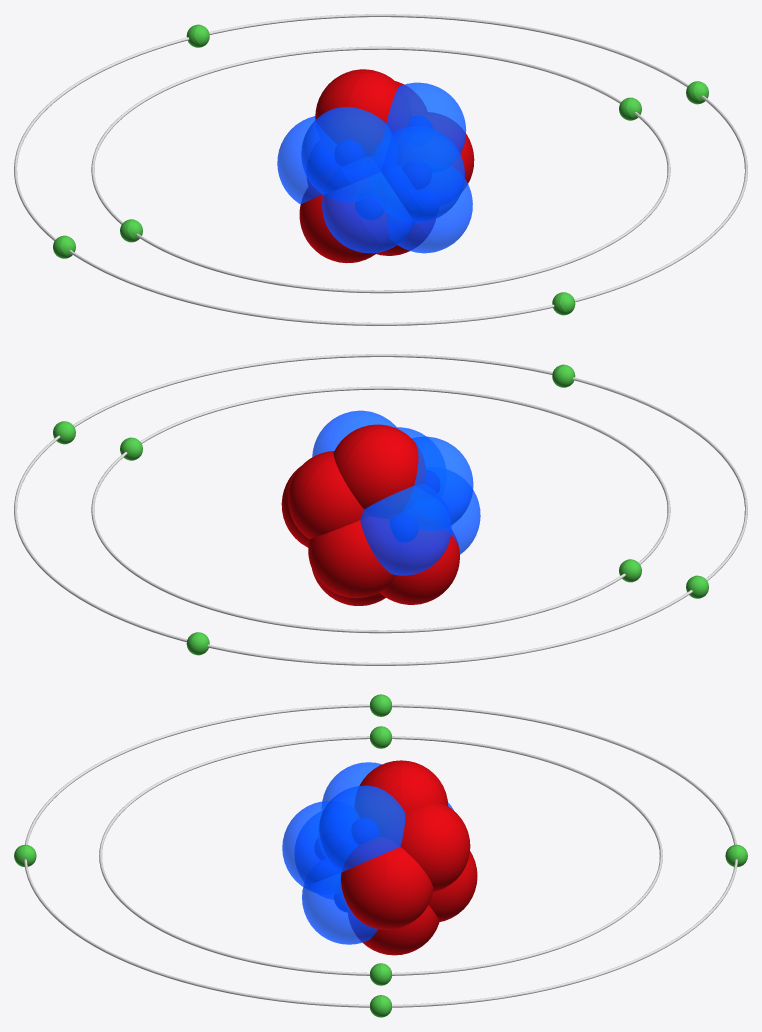
File: element_006_carbon.glb
3 renders of one model, top to bottom at view 1: azimuth 30°, elevation 25°; view 2: azimuth 150°, elevation 25°; view 3: azimuth 270°, elevation 25°, orthographic. The views are drawn at different scales.
Visible parts, largest first — view 1: element_006_carbon_nucleus, carbon_orbital_1_6; view 2: element_006_carbon_nucleus, carbon_orbital_1_6; view 3: element_006_carbon_nucleus, carbon_orbital_1_6.
Part boxes in pixels (box(x1,y1,x2,y2)): element_006_carbon_nucleus: box(277, 69, 474, 263); carbon_orbital_1_6: box(14, 14, 747, 325); element_006_carbon_nucleus: box(281, 410, 480, 605); carbon_orbital_1_6: box(14, 354, 747, 665); element_006_carbon_nucleus: box(282, 760, 477, 955); carbon_orbital_1_6: box(14, 694, 747, 1017).
Size of what is drawn, in the model's own units: 0.629 by 0.1661 by 0.629.
